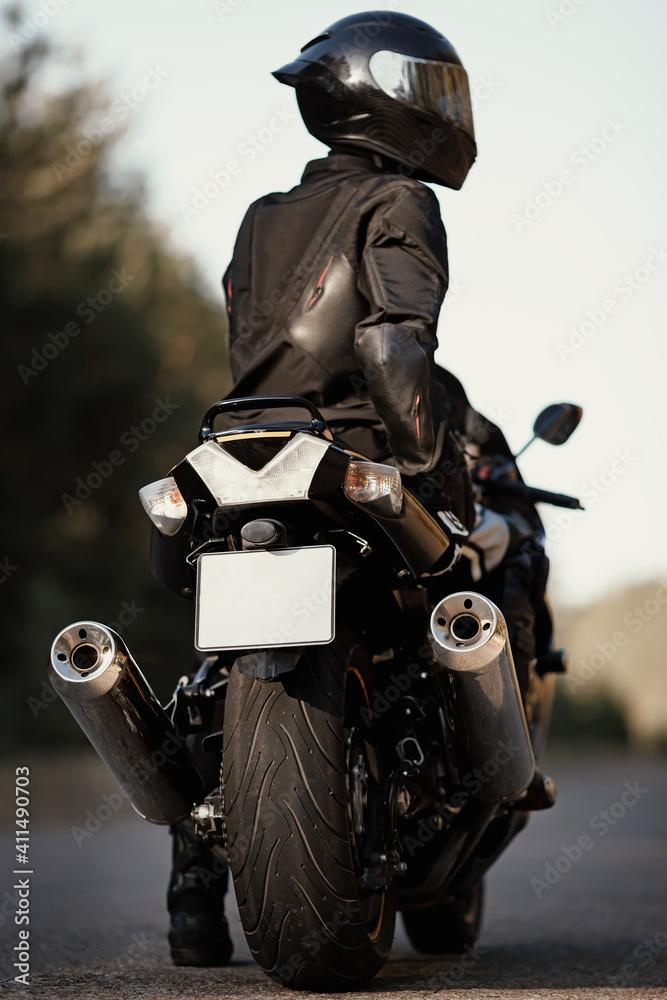helmet: (269, 9, 479, 192)
